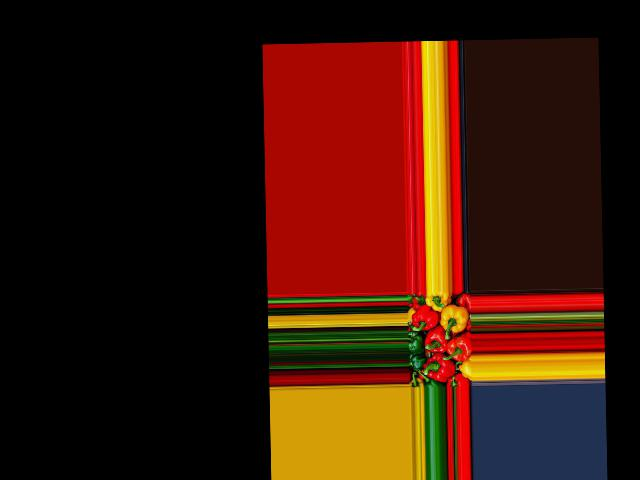bell_pepper: (459, 361, 472, 377)
